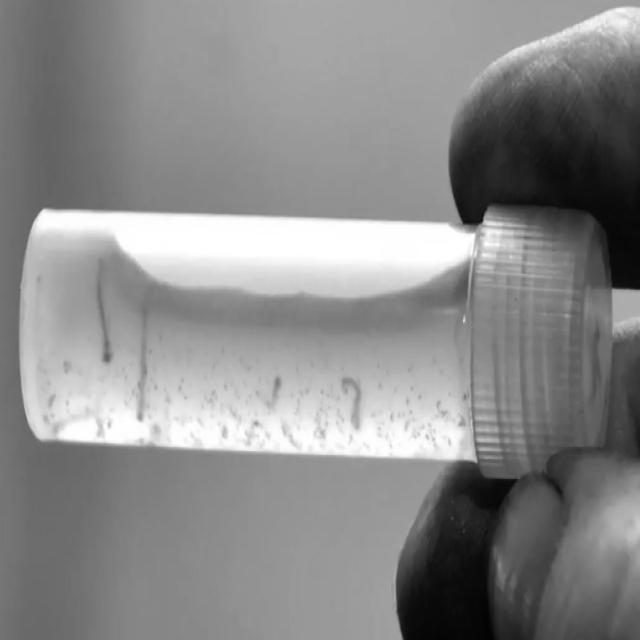larvas: (95, 265, 114, 361), (137, 305, 148, 416), (344, 371, 362, 428), (264, 378, 283, 404)
